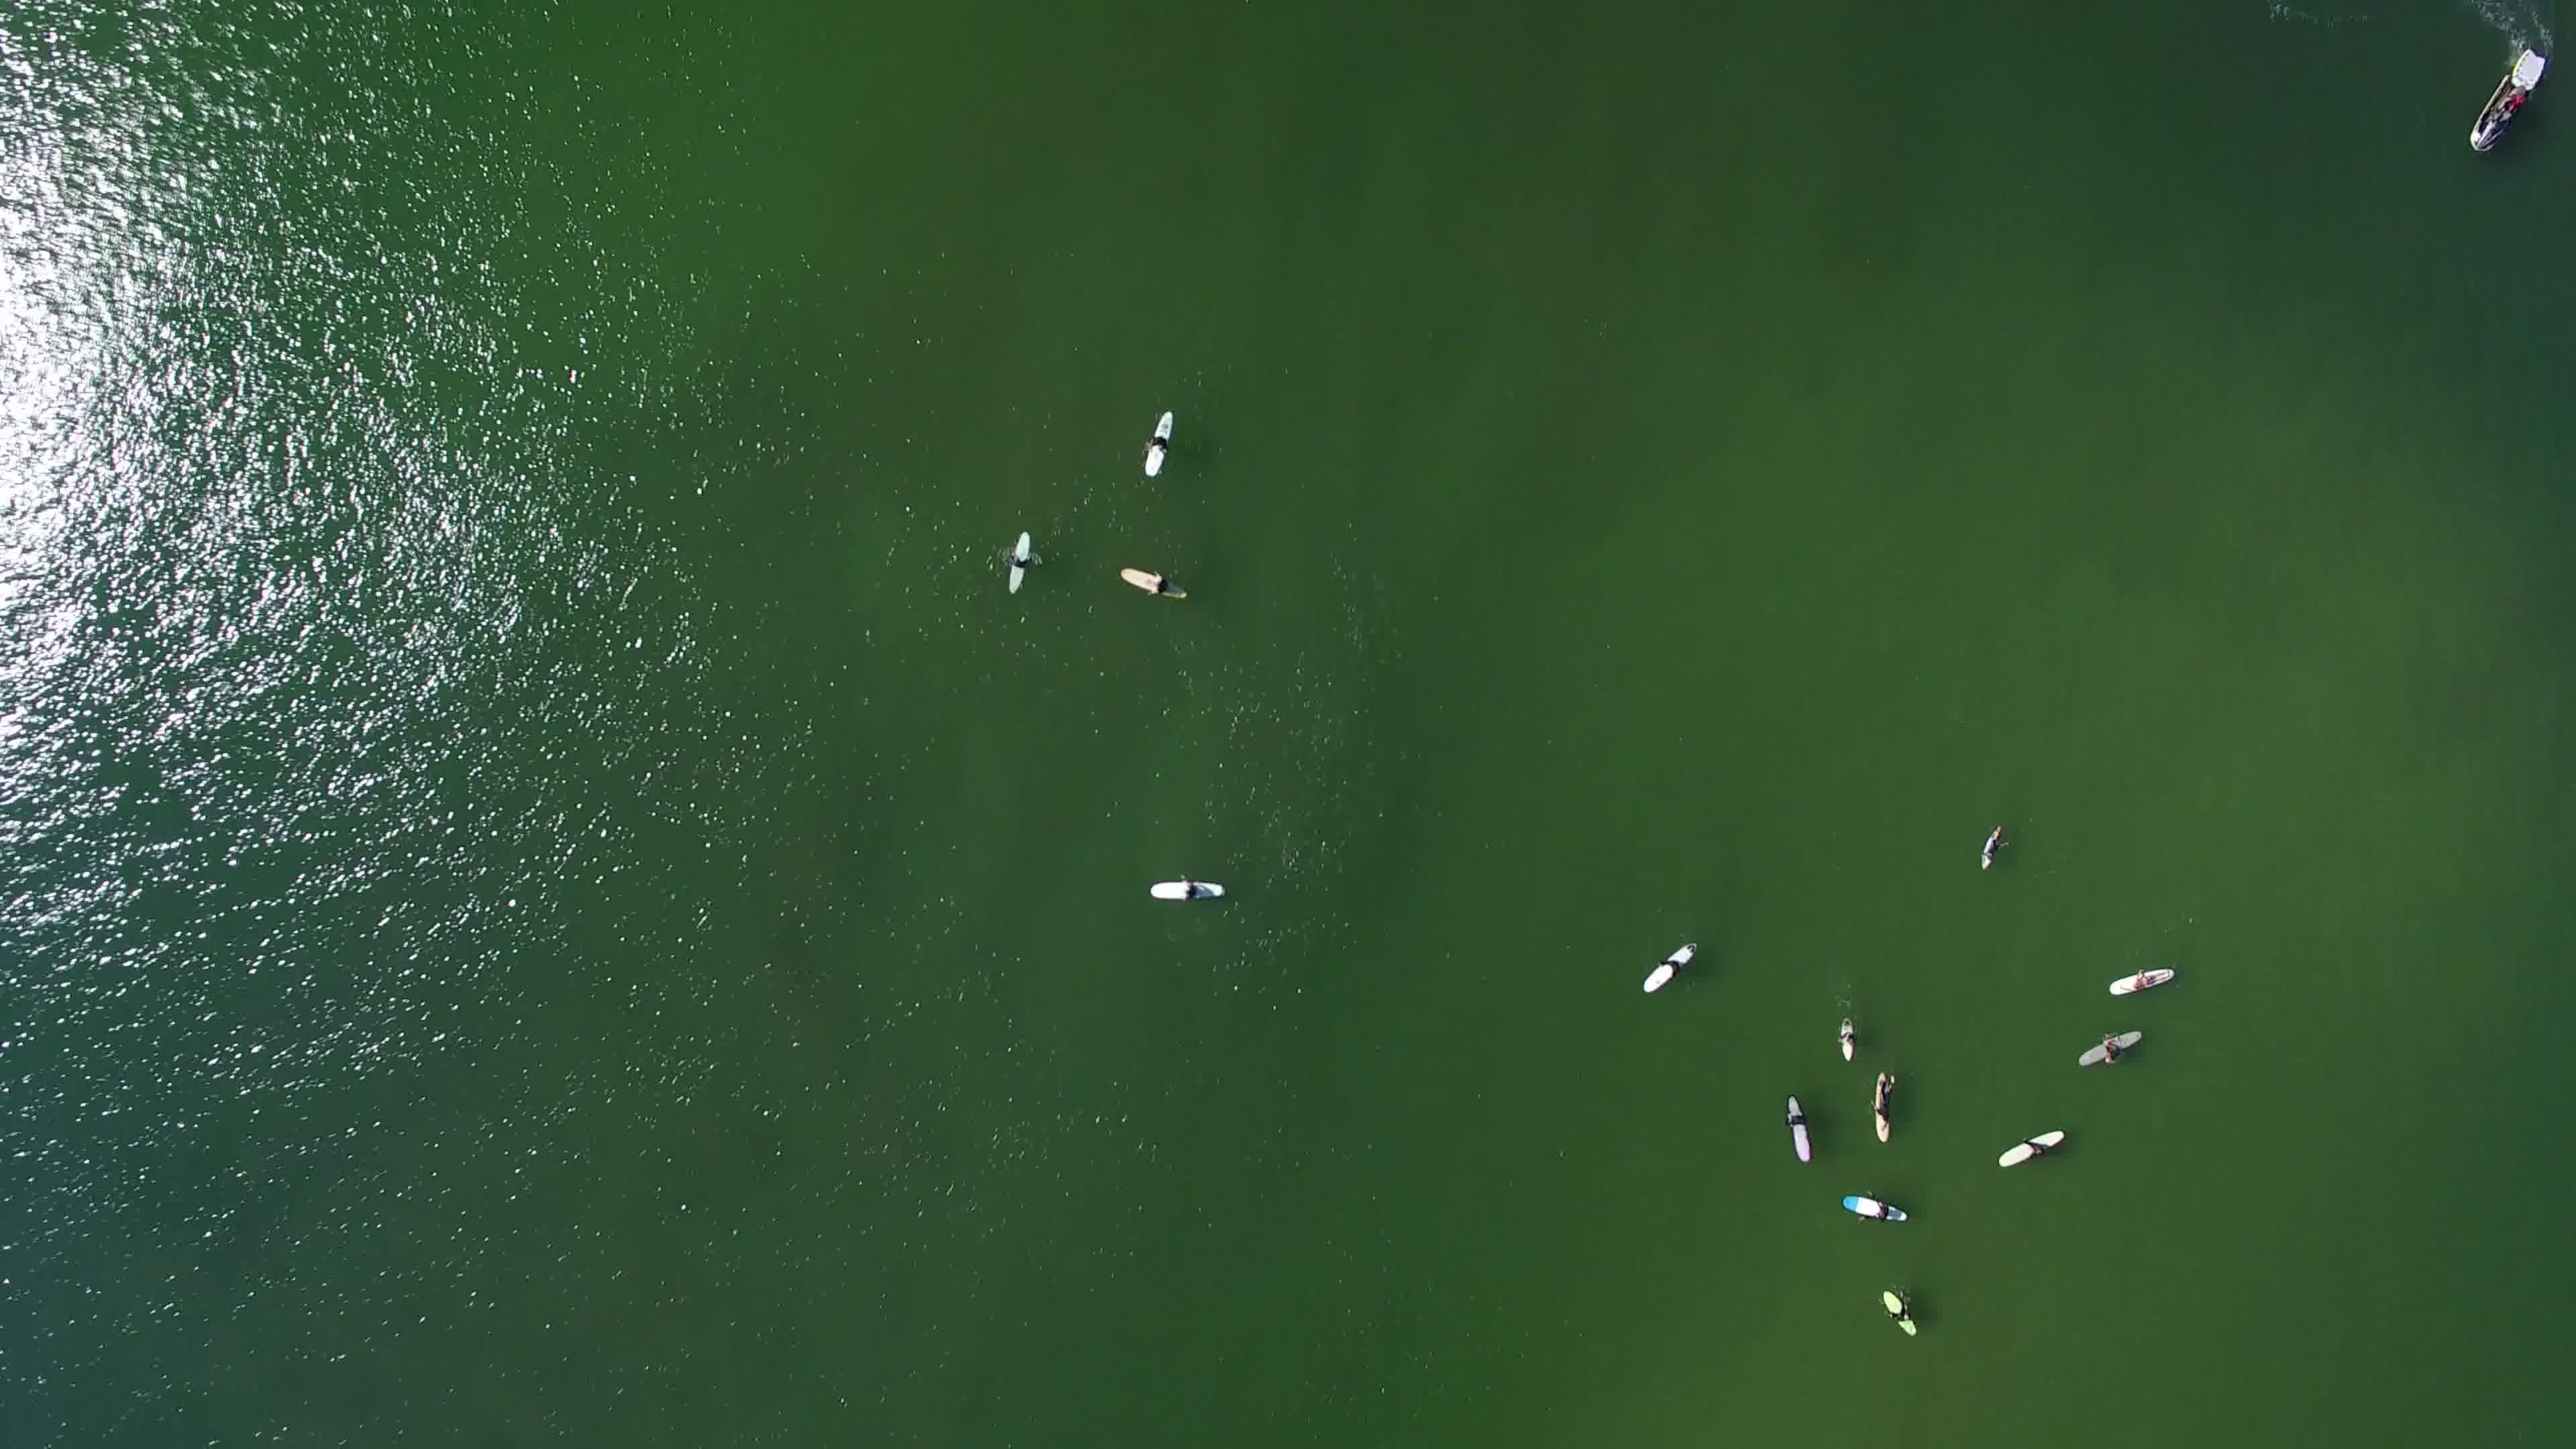surfer: (1638, 929, 1704, 1003), (1108, 561, 1196, 609), (1145, 867, 1231, 915), (996, 524, 1044, 603), (2102, 957, 2181, 1001), (1874, 1283, 1927, 1345), (2074, 1028, 2148, 1072), (1996, 1131, 2074, 1171), (1138, 407, 1180, 481), (1836, 1187, 1913, 1228), (1776, 1092, 1815, 1169), (1870, 1062, 1904, 1146), (1973, 816, 2017, 878), (1831, 1016, 1861, 1065)
